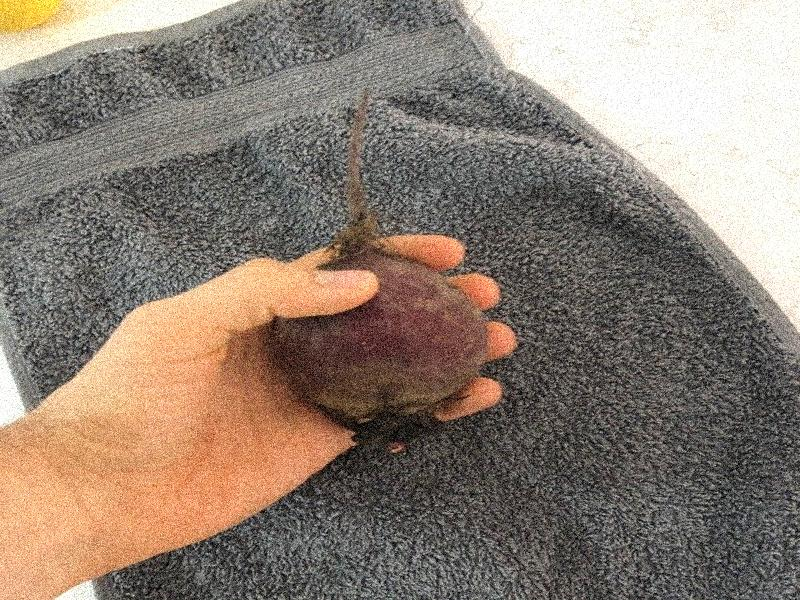Beet: (271, 88, 490, 443)
